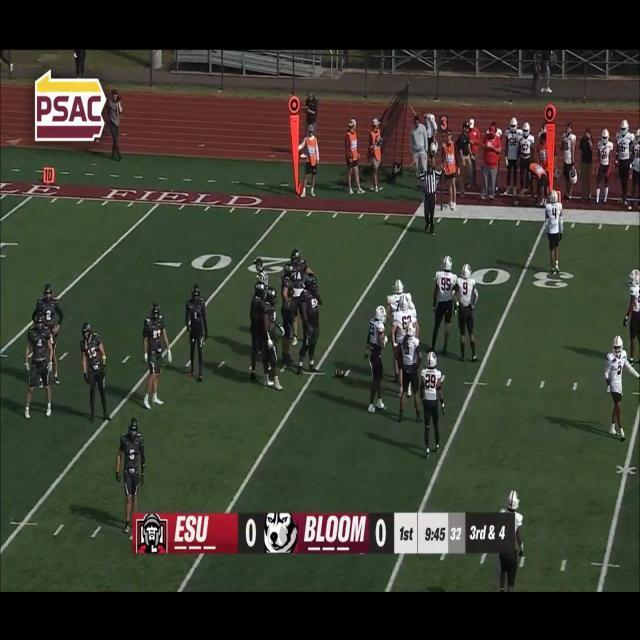football: (331, 362, 346, 386)
